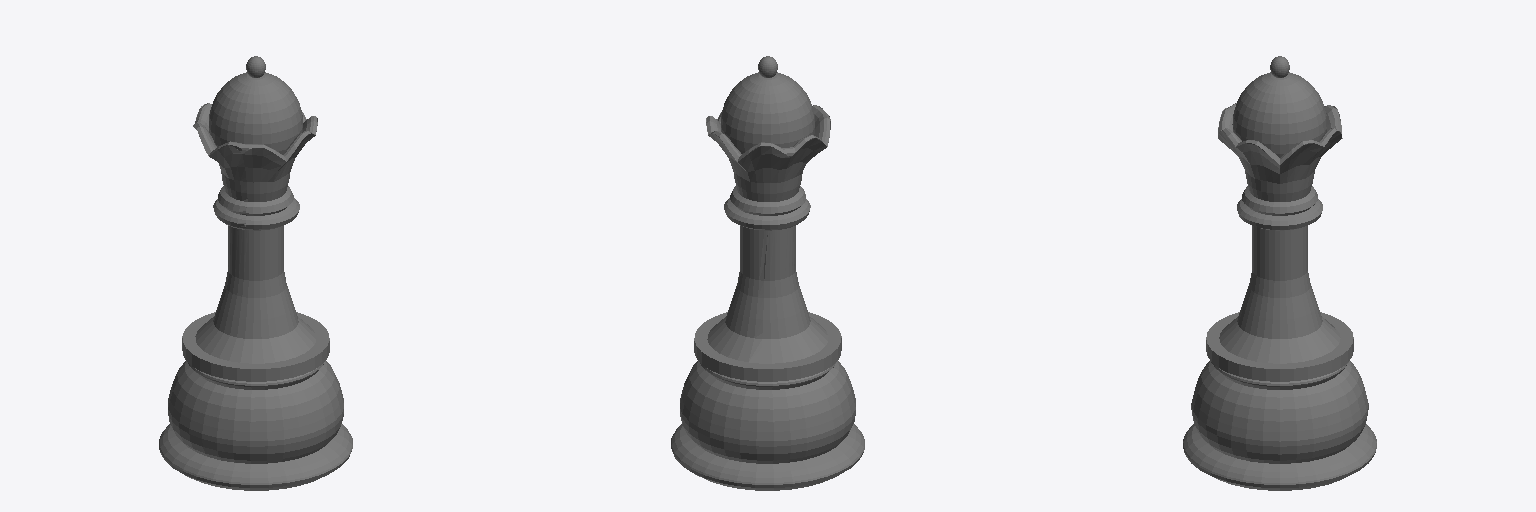
The model's file is queen.obj.
3 views of the same model, side by side, from view 1: azimuth 30°, elevation 25°; view 2: azimuth 150°, elevation 25°; view 3: azimuth 270°, elevation 25° (orthographic).
Visible parts, largest first — view 1: królowa_Circle.001; view 2: królowa_Circle.001; view 3: królowa_Circle.001.
Part boxes in pixels (x1,y1,x2,y2): królowa_Circle.001: (159, 56, 352, 490); królowa_Circle.001: (671, 56, 864, 490); królowa_Circle.001: (1183, 56, 1376, 490).
Bounding box in the file's own units: 0.0865 × 0.1946 × 0.0865.